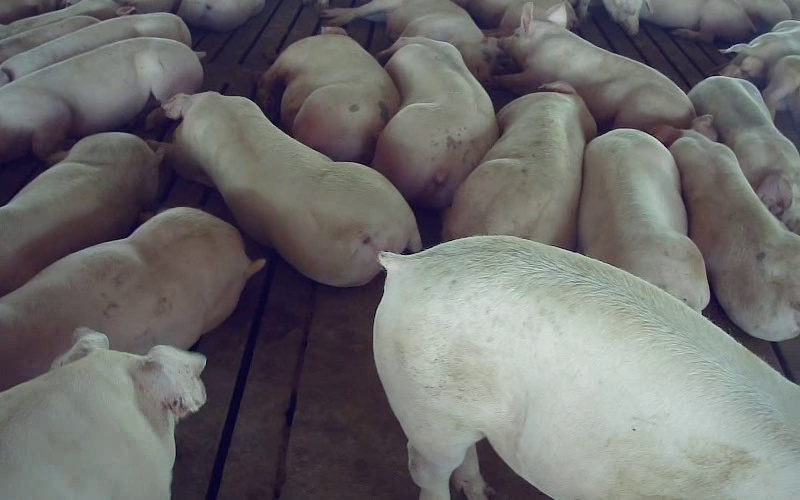pig: (163, 92, 420, 285), (0, 207, 264, 390), (654, 116, 799, 340), (0, 132, 160, 295), (0, 37, 204, 162), (444, 82, 596, 249), (495, 3, 694, 129), (578, 129, 709, 310), (372, 37, 498, 208), (257, 26, 399, 162), (688, 76, 799, 233), (320, 0, 498, 80), (0, 12, 191, 85), (721, 20, 799, 86)
